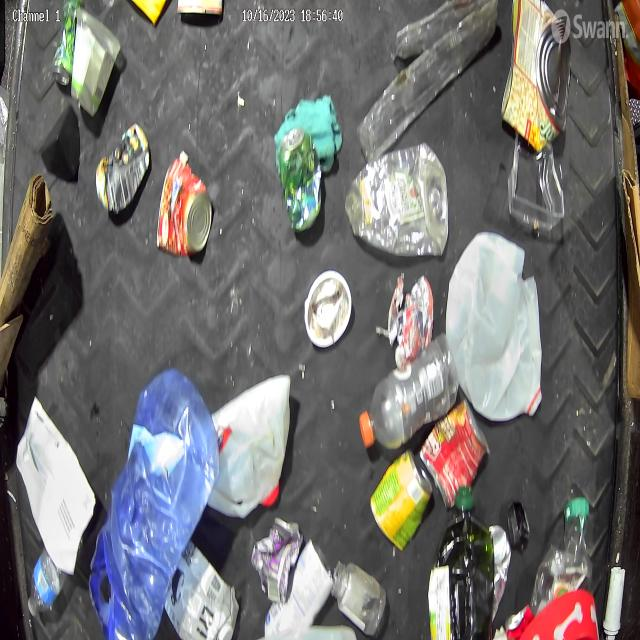can: (500, 0, 571, 154), (419, 399, 491, 509), (370, 448, 433, 548), (156, 154, 213, 255), (251, 516, 302, 604), (280, 127, 322, 232), (52, 0, 79, 86), (491, 524, 511, 622)
milk_jug: (445, 231, 543, 423), (207, 374, 291, 518)
non_white_jug: (88, 366, 220, 640), (429, 511, 495, 640)
plastic_bottle: (345, 142, 447, 256), (360, 332, 458, 449), (528, 496, 594, 602), (28, 548, 72, 617)
